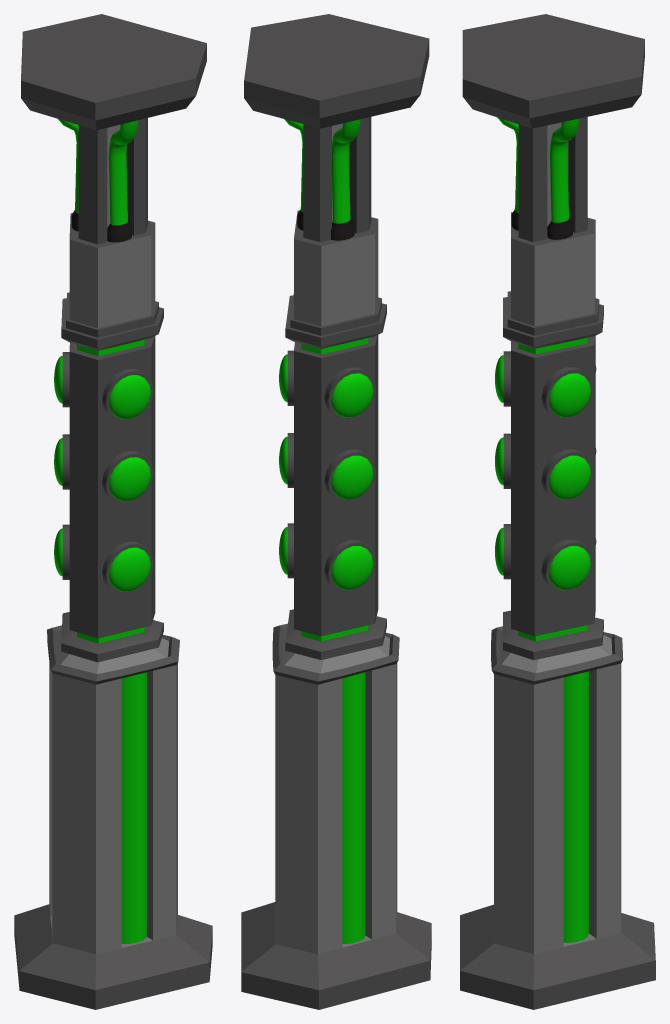
File: Robot_Pillar.fbx
3 views of the same model, side by side, from view 1: azimuth 30°, elevation 25°; view 2: azimuth 150°, elevation 25°; view 3: azimuth 270°, elevation 25° (orthographic).
Parts seen in each view (by area): view 1: polySurface86, polySurface87, polySurface84, pCylinder61, pCylinder64, pSphere32, pSphere33, pSphere34, pSphere30, pSphere29, pSphere31, pCylinder65; view 2: polySurface86, polySurface87, polySurface84, pCylinder63, pCylinder65, pSphere29, pSphere30, pSphere31, pSphere36, pSphere37, pSphere35, pCylinder66; view 3: polySurface86, polySurface87, polySurface84, pCylinder62, pCylinder66, pSphere36, pSphere35, pSphere37, pSphere33, pSphere32, pSphere34, pCylinder64.
Boxes of the visible parts, <box> form: polySurface86: <box>14,625,212,1009</box>; polySurface87: <box>21,14,206,337</box>; polySurface84: <box>61,298,163,662</box>; pCylinder61: <box>121,672,146,943</box>; pCylinder64: <box>107,120,138,242</box>; pSphere32: <box>102,451,153,504</box>; pSphere33: <box>102,369,153,422</box>; pSphere34: <box>102,541,153,594</box>; pSphere30: <box>54,434,69,489</box>; pSphere29: <box>54,352,69,407</box>; pSphere31: <box>54,524,69,579</box>; pCylinder65: <box>58,119,78,231</box>; polySurface86: <box>241,623,431,1009</box>; polySurface87: <box>244,14,429,335</box>; polySurface84: <box>285,295,386,659</box>; pCylinder63: <box>342,672,365,943</box>; pCylinder65: <box>331,119,360,240</box>; pSphere29: <box>324,367,375,420</box>; pSphere30: <box>324,449,375,502</box>; pSphere31: <box>324,540,375,593</box>; pSphere36: <box>279,523,293,578</box>; pSphere37: <box>279,350,293,405</box>; pSphere35: <box>279,433,293,487</box>; pCylinder66: <box>284,119,303,230</box>; polySurface86: <box>460,626,655,1009</box>; polySurface87: <box>462,14,644,335</box>; polySurface84: <box>503,297,603,659</box>; pCylinder62: <box>563,671,588,942</box>; pCylinder66: <box>547,118,579,239</box>; pSphere36: <box>541,540,593,593</box>; pSphere35: <box>541,449,593,502</box>; pSphere37: <box>541,367,593,420</box>; pSphere33: <box>495,351,510,406</box>; pSphere32: <box>495,433,510,488</box>; pSphere34: <box>495,524,510,579</box>; pCylinder64: <box>497,117,518,230</box>.
Bounding box in the file's own units: 1.85 × 1.64 × 8.39.
